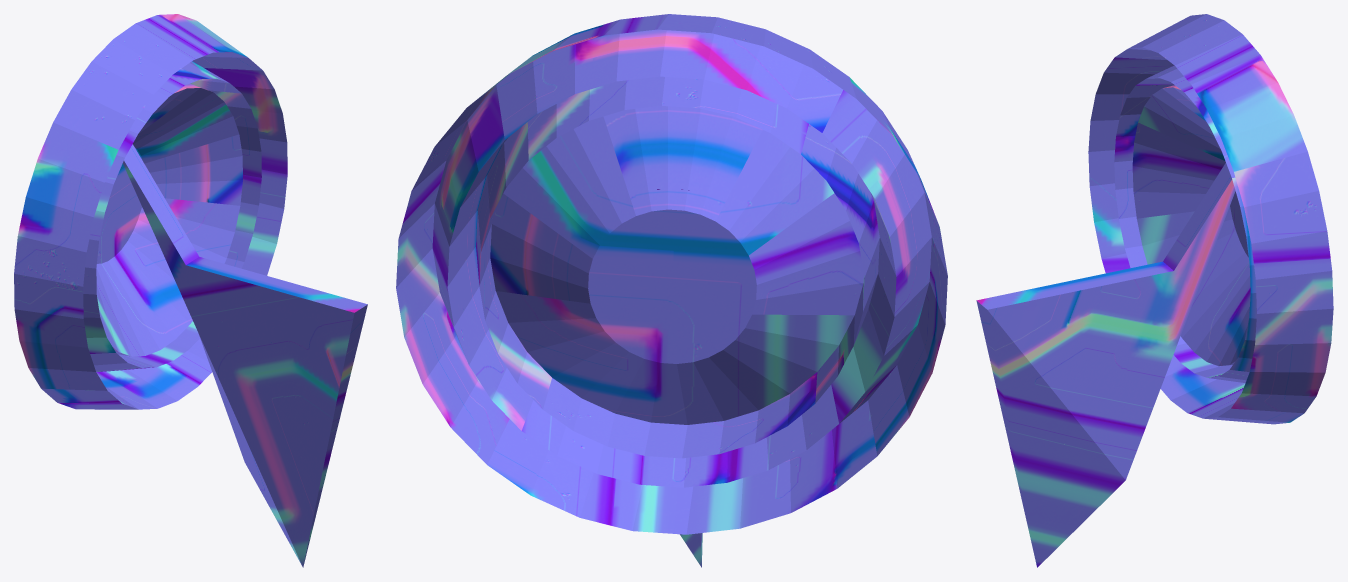
File: radar6.obj
3 views of the same model, side by side, from view 1: azimuth 30°, elevation 25°; view 2: azimuth 150°, elevation 25°; view 3: azimuth 270°, elevation 25° (orthographic). The views are drawn at different scales.
Visible parts, largest first — view 1: radar; view 2: radar; view 3: radar.
Boxes of the visible parts, left/top/right/bottom form: radar: left=14, top=14, right=367, bottom=567; radar: left=396, top=14, right=947, bottom=567; radar: left=976, top=14, right=1333, bottom=567.
Size of the model in its own units: 0.9136 by 1.3 by 0.8421.
